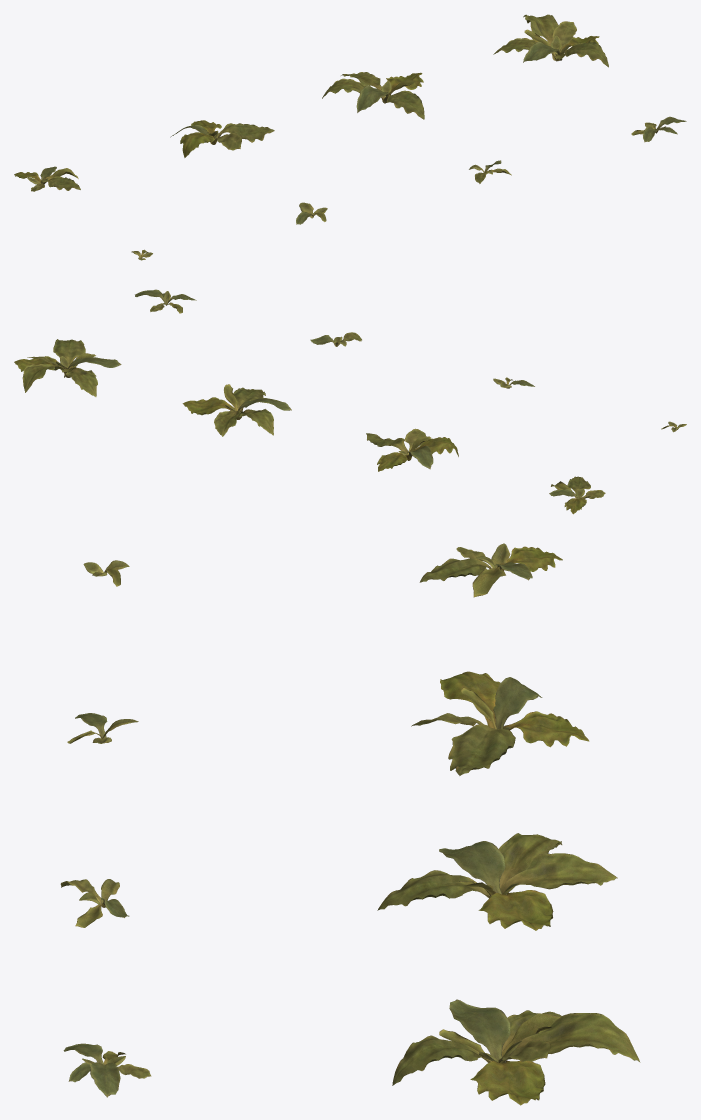
The model's file is crystalline_iceplant_1k.gltf.
3 renders of one model, top to bottom at view 1: azimuth 30°, elevation 25°; view 2: azimuth 150°, elevation 25°; view 3: azimuth 270°, elevation 25°, orthographic. The views are drawn at different scales.
Parts seen in each view (by area): view 1: crystalline_iceplant_a_LOD0, crystalline_iceplant_b_LOD0, crystalline_iceplant_c_LOD0, crystalline_iceplant_d_LOD0, crystalline_iceplant_e_LOD0, crystalline_iceplant_g_LOD0; view 2: crystalline_iceplant_a_LOD0, crystalline_iceplant_b_LOD0, crystalline_iceplant_c_LOD0, crystalline_iceplant_d_LOD0, crystalline_iceplant_e_LOD0, crystalline_iceplant_f_LOD0; view 3: crystalline_iceplant_a_LOD0, crystalline_iceplant_b_LOD0, crystalline_iceplant_c_LOD0, crystalline_iceplant_d_LOD0, crystalline_iceplant_e_LOD0, crystalline_iceplant_f_LOD0.
Boxes of the visible parts, x1,y1,x2,y2 form: crystalline_iceplant_a_LOD0: (493, 14, 608, 67); crystalline_iceplant_b_LOD0: (322, 72, 424, 119); crystalline_iceplant_c_LOD0: (170, 120, 274, 157); crystalline_iceplant_d_LOD0: (14, 166, 80, 191); crystalline_iceplant_e_LOD0: (631, 116, 686, 142); crystalline_iceplant_g_LOD0: (296, 202, 327, 224); crystalline_iceplant_a_LOD0: (14, 339, 121, 396); crystalline_iceplant_b_LOD0: (182, 384, 291, 436); crystalline_iceplant_c_LOD0: (366, 428, 458, 471); crystalline_iceplant_d_LOD0: (549, 476, 605, 514); crystalline_iceplant_e_LOD0: (135, 289, 196, 313); crystalline_iceplant_f_LOD0: (310, 332, 361, 346); crystalline_iceplant_a_LOD0: (392, 999, 640, 1105); crystalline_iceplant_b_LOD0: (377, 833, 617, 930); crystalline_iceplant_c_LOD0: (411, 671, 589, 775); crystalline_iceplant_d_LOD0: (419, 543, 562, 597); crystalline_iceplant_e_LOD0: (63, 1043, 151, 1097); crystalline_iceplant_f_LOD0: (60, 879, 129, 927).
Size of the model in its own units: 1.69 by 0.0822 by 0.7379.
Materials: 1 (1 with a texture image).
